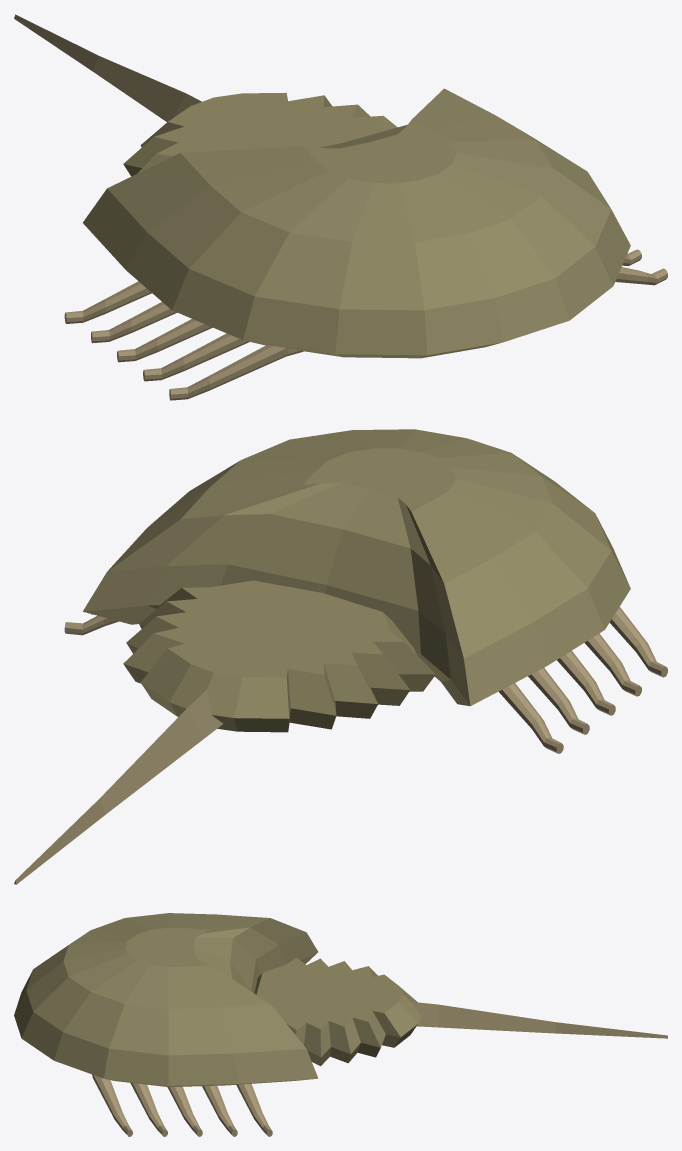
3 views of the same model, one above another, from view 1: azimuth 30°, elevation 25°; view 2: azimuth 150°, elevation 25°; view 3: azimuth 270°, elevation 25° (orthographic). The views are drawn at different scales.
Parts seen in each view (by area): view 1: WholeArchedHorseshoeProsomaAndRearCorners, WholeNarrowSpinyPosteriorShield, WholeLongTriangularTaperedTelson, WholeShortVentralWalkingLimb0_0, WholeShortVentralWalkingLimb0_1, WholeShortVentralWalkingLimb0_2, WholeShortVentralWalkingLimb0_4, WholeShortVentralWalkingLimb0_3, WholeShortVentralWalkingLimb1_0; view 2: WholeArchedHorseshoeProsomaAndRearCorners, WholeNarrowSpinyPosteriorShield, WholeLongTriangularTaperedTelson, WholeShortVentralWalkingLimb0_4, WholeShortVentralWalkingLimb0_3, WholeShortVentralWalkingLimb0_0, WholeShortVentralWalkingLimb0_2, WholeShortVentralWalkingLimb0_1; view 3: WholeArchedHorseshoeProsomaAndRearCorners, WholeNarrowSpinyPosteriorShield, WholeLongTriangularTaperedTelson, WholeShortVentralWalkingLimb1_0, WholeShortVentralWalkingLimb1_1, WholeShortVentralWalkingLimb1_4, WholeShortVentralWalkingLimb1_3, WholeShortVentralWalkingLimb1_2.
Part boxes in pixels (x1=…): WholeArchedHorseshoeProsomaAndRearCorners: x1=83, y1=88, x2=630, y2=358; WholeNarrowSpinyPosteriorShield: x1=123, y1=92, x2=397, y2=176; WholeLongTriangularTaperedTelson: x1=14, y1=14, x2=201, y2=121; WholeShortVentralWalkingLimb0_0: x1=169, y1=345, x2=303, y2=400; WholeShortVentralWalkingLimb0_1: x1=143, y1=333, x2=249, y2=381; WholeShortVentralWalkingLimb0_2: x1=117, y1=319, x2=212, y2=362; WholeShortVentralWalkingLimb0_4: x1=64, y1=281, x2=151, y2=323; WholeShortVentralWalkingLimb0_3: x1=91, y1=302, x2=176, y2=343; WholeShortVentralWalkingLimb1_0: x1=615, y1=267, x2=667, y2=285; WholeArchedHorseshoeProsomaAndRearCorners: x1=83, y1=429, x2=630, y2=706; WholeNarrowSpinyPosteriorShield: x1=123, y1=580, x2=435, y2=732; WholeLongTriangularTaperedTelson: x1=14, y1=689, x2=223, y2=884; WholeShortVentralWalkingLimb0_4: x1=498, y1=683, x2=563, y2=753; WholeShortVentralWalkingLimb0_3: x1=528, y1=668, x2=589, y2=734; WholeShortVentralWalkingLimb0_0: x1=609, y1=607, x2=667, y2=677; WholeShortVentralWalkingLimb0_2: x1=557, y1=650, x2=615, y2=715; WholeShortVentralWalkingLimb0_1: x1=584, y1=633, x2=641, y2=696; WholeArchedHorseshoeProsomaAndRearCorners: x1=14, y1=913, x2=318, y2=1087; WholeNarrowSpinyPosteriorShield: x1=254, y1=957, x2=421, y2=1066; WholeLongTriangularTaperedTelson: x1=411, y1=1001, x2=667, y2=1038; WholeShortVentralWalkingLimb1_0: x1=92, y1=1074, x2=132, y2=1136; WholeShortVentralWalkingLimb1_1: x1=130, y1=1083, x2=167, y2=1136; WholeShortVentralWalkingLimb1_4: x1=236, y1=1084, x2=272, y2=1136; WholeShortVentralWalkingLimb1_3: x1=202, y1=1085, x2=237, y2=1136; WholeShortVentralWalkingLimb1_2: x1=167, y1=1086, x2=202, y2=1136.
Size of the model in its own units: 1.54 by 0.48 by 2.62.
